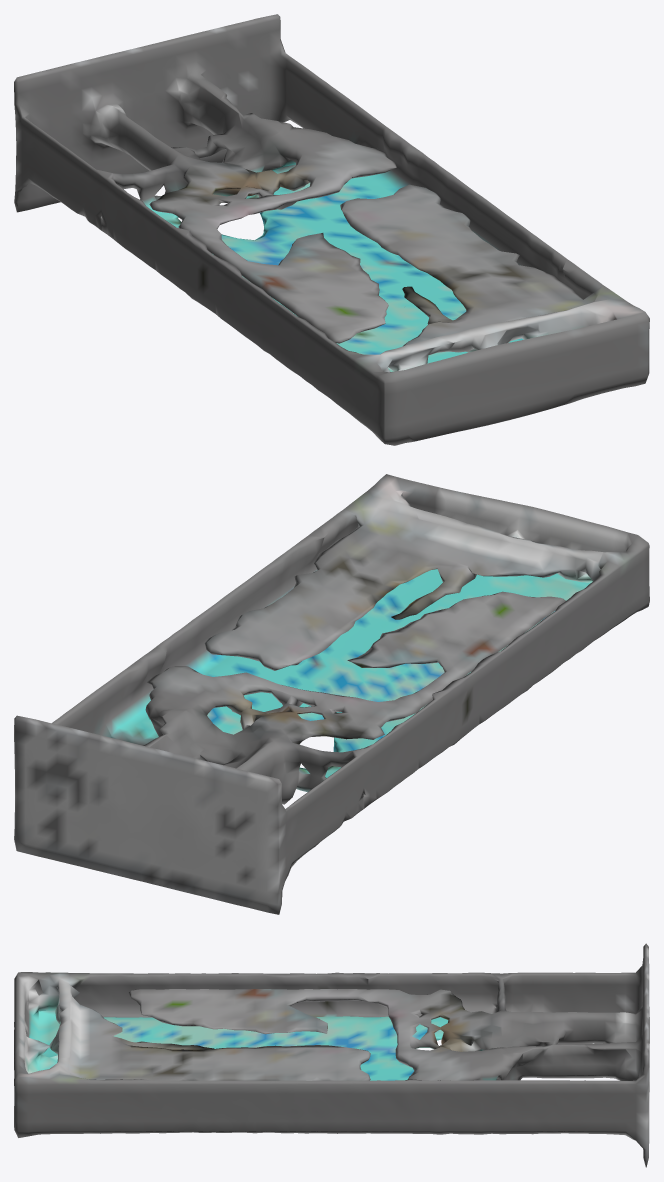
File: a display with affordances of display.obj
3 views of the same model, one above another, from view 1: azimuth 30°, elevation 25°; view 2: azimuth 150°, elevation 25°; view 3: azimuth 270°, elevation 25° (orthographic). The views are drawn at different scales.
Size of the model in its own units: 0.4162 by 0.2015 by 1.
